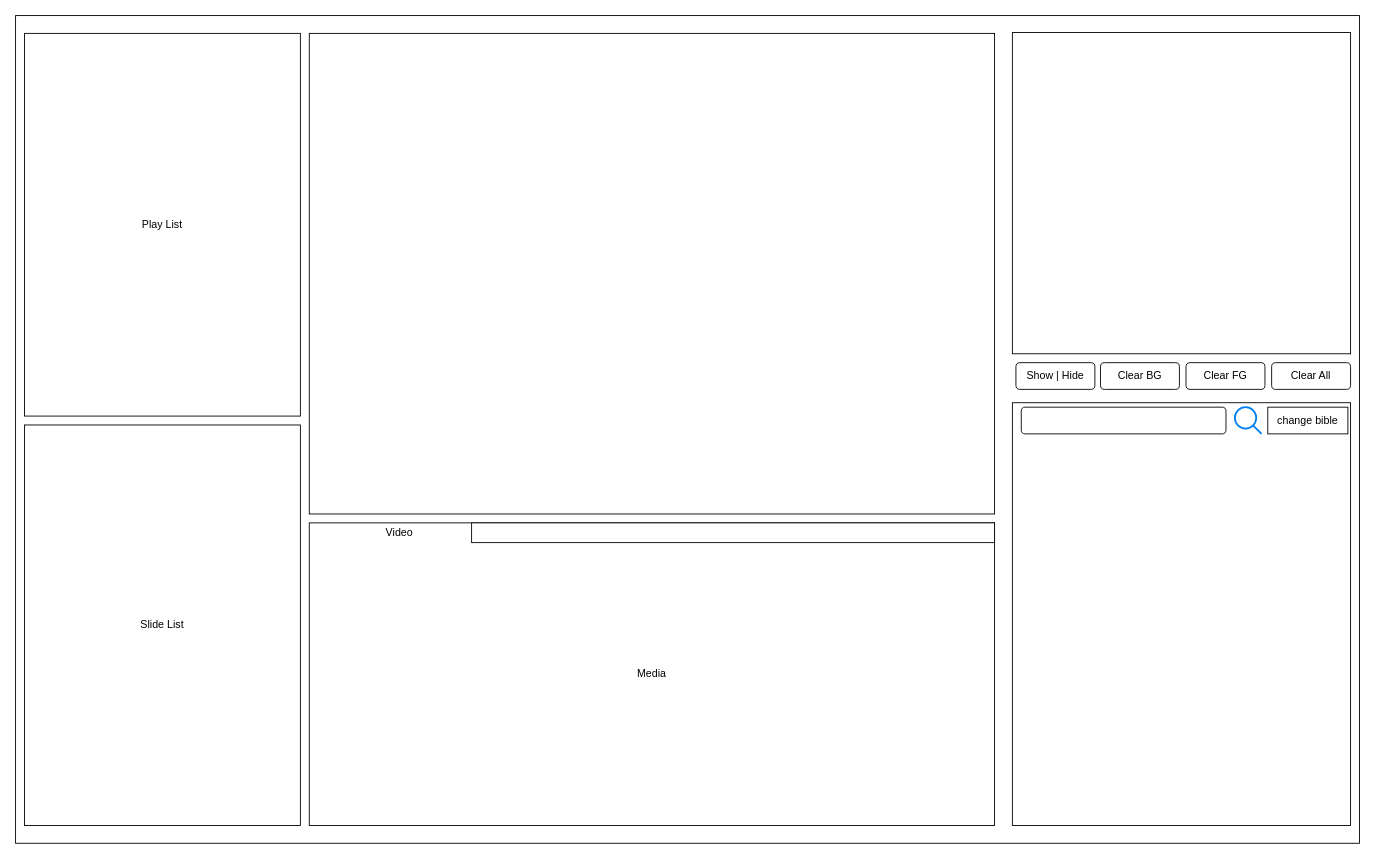
This 1375x859 diagram has some shape labels left out. Here are the shapes that lost their labels. From the top down, the box of each, then its label:
(1011, 32, 1351, 354): Preview
(308, 32, 995, 514): Slide's Children
(471, 522, 995, 543): Image
(1011, 402, 1351, 825): Bible Search
